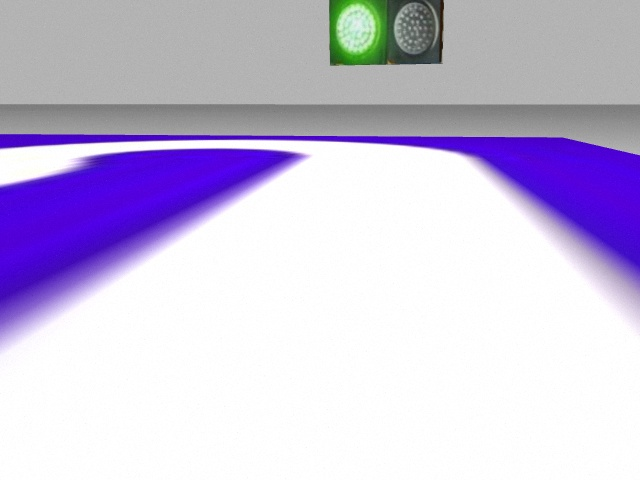green: (328, 1, 388, 66)
